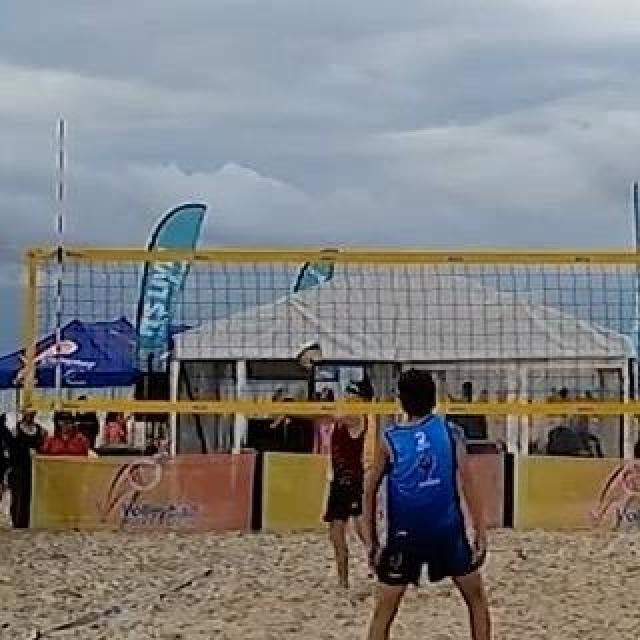volleyball: (295, 343, 321, 369)
